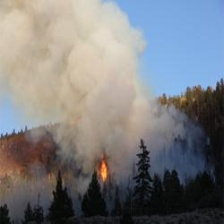fire: (91, 151, 116, 188)
smoke: (1, 2, 198, 141)
